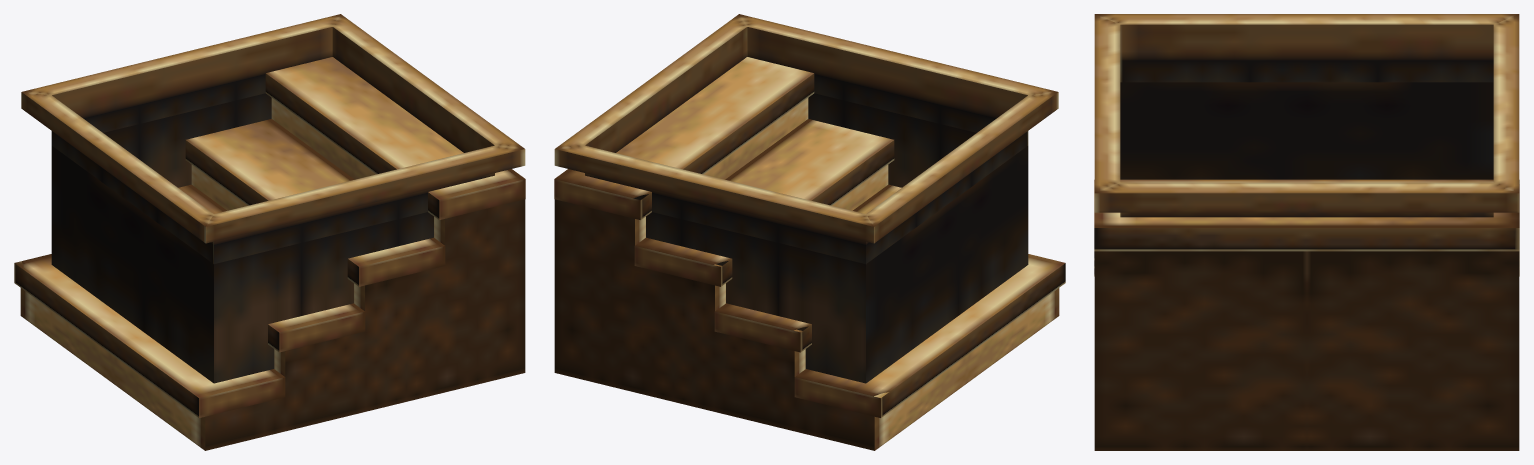
File: Poly_Stairs_02_Down_Left.obj
3 renders of one model, left to right at view 1: azimuth 30°, elevation 25°; view 2: azimuth 150°, elevation 25°; view 3: azimuth 270°, elevation 25°, orthographic. The views are drawn at different scales.
Visible parts, largest first — view 1: Cube, Cube.005, Cube.001; view 2: Cube, Cube.005, Cube.001; view 3: Cube, Cube.005, Cube.001.
Boxes of the visible parts, bbox=[...] form: Cube: bbox=[21, 14, 525, 383]; Cube.005: bbox=[20, 98, 525, 450]; Cube.001: bbox=[14, 57, 525, 417]; Cube: bbox=[554, 14, 1058, 383]; Cube.005: bbox=[554, 98, 1059, 450]; Cube.001: bbox=[554, 57, 1065, 417]; Cube: bbox=[1094, 14, 1519, 217]; Cube.005: bbox=[1094, 251, 1519, 450]; Cube.001: bbox=[1094, 179, 1519, 276].
Bounding box in the file's own units: 1.02 × 0.67 × 1.
1 material, 1 textured.
